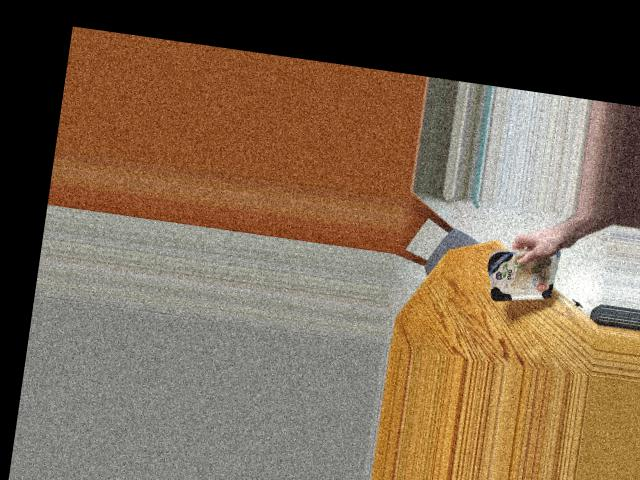cheese: (481, 236, 563, 309)
